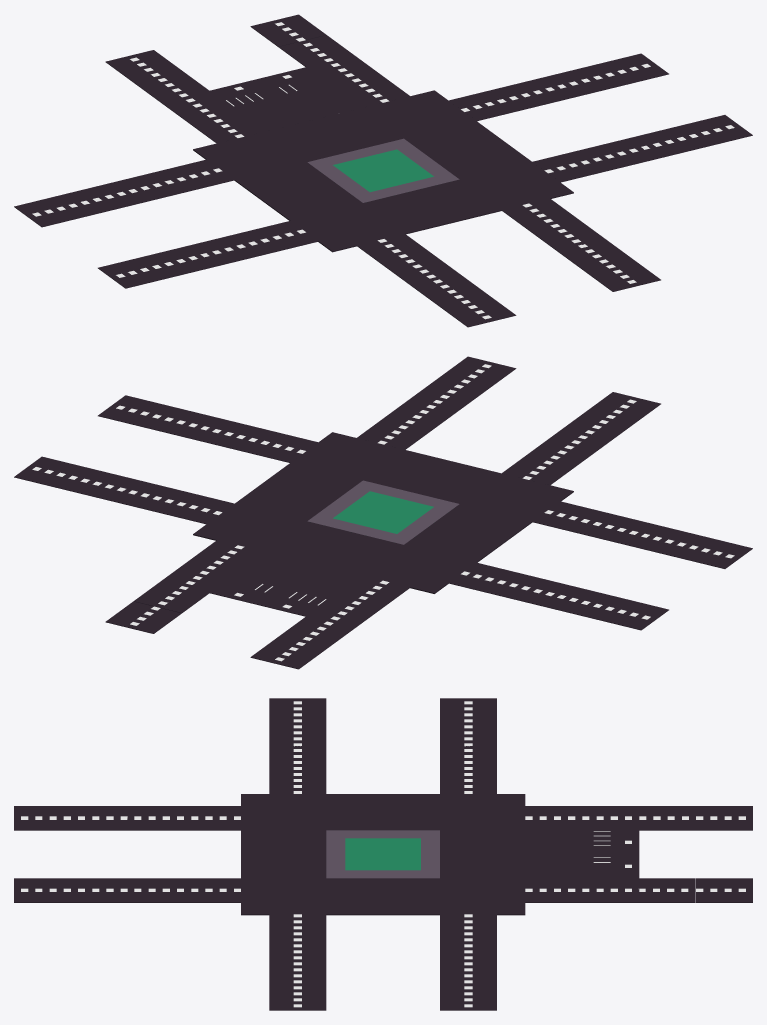
File: MapRoads.fbx
The picture shows the model from 3 angles, top to bottom: view 1: azimuth 30°, elevation 25°; view 2: azimuth 150°, elevation 25°; view 3: azimuth 270°, elevation 25°; orthographic projection.
Visible parts, largest first — view 1: ParkingLot, ParkingLot.001, Road.030, Road.032, Road.029, Road.031, Road.027, Road.005, Road.004, Road.011, Road.006, Road.003 (+26 smaller); view 2: ParkingLot, ParkingLot.001, Road.026, Road.027, Road.029, Road.030, Road.003, Road.004, Road.006, Road.028, Road.005, Road.015 (+26 smaller); view 3: ParkingLot, ParkingLot.001, Road.002, Road.025, PArk.001, PArk.002, PArk.003, Road.001, Road.005, Road.009, Road.012, Road.020 (+26 smaller).
Part boxes in pixels (<box>): ParkingLot: <box>193,90,573,252</box>; ParkingLot.001: <box>307,138,459,202</box>; Road.030: <box>14,195,90,227</box>; Road.032: <box>440,295,516,327</box>; Road.029: <box>98,256,173,288</box>; Road.031: <box>585,259,660,291</box>; Road.027: <box>250,14,326,46</box>; Road.005: <box>532,150,608,182</box>; Road.004: <box>242,221,318,253</box>; Road.011: <box>497,77,572,109</box>; Road.006: <box>449,88,524,121</box>; Road.003: <box>159,159,234,191</box>; ParkingLot: <box>193,432,573,593</box>; ParkingLot.001: <box>307,480,459,544</box>; Road.026: <box>250,637,326,669</box>; Road.027: <box>105,601,181,633</box>; Road.029: <box>677,536,752,568</box>; Road.030: <box>593,598,668,630</box>; Road.003: <box>448,562,524,595</box>; Road.004: <box>532,501,607,533</box>; Road.006: <box>158,492,234,524</box>; Road.028: <box>14,456,89,488</box>; Road.005: <box>242,430,317,462</box>; Road.015: <box>580,513,656,545</box>; ParkingLot: <box>241,794,525,915</box>; ParkingLot.001: <box>326,830,439,878</box>; Road.002: <box>525,878,582,902</box>; Road.025: <box>269,986,326,1010</box>; PArk.001: <box>525,830,582,854</box>; PArk.002: <box>525,854,582,878</box>; PArk.003: <box>582,830,639,854</box>; Road.001: <box>525,806,582,830</box>; Road.005: <box>269,914,326,938</box>; Road.009: <box>582,806,639,830</box>; Road.012: <box>269,938,326,962</box>; Road.020: <box>269,962,326,986</box>.
Size of the model in its own units: 25960 by 25980 by 49.47.
